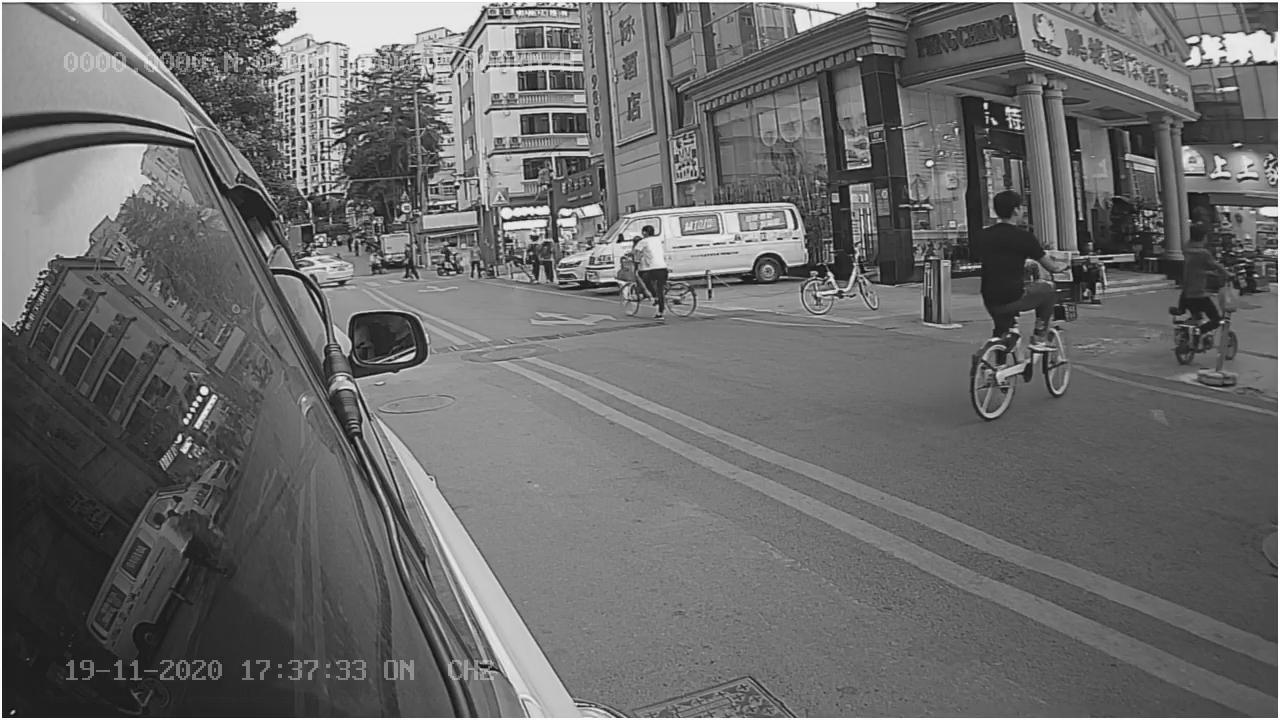person: (970, 181, 1038, 317)
